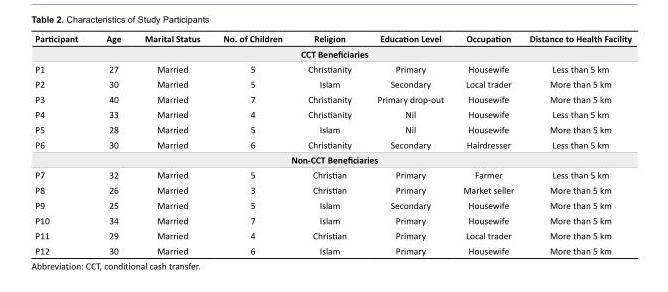table: (34, 34, 631, 255)
table column: (521, 34, 631, 255), (363, 34, 452, 255), (211, 34, 294, 255), (132, 34, 211, 255), (294, 34, 363, 255), (452, 34, 521, 255), (34, 34, 91, 255), (91, 34, 132, 255)
table projected row header: (34, 46, 631, 61), (34, 152, 631, 167)
table row: (34, 91, 631, 107), (34, 182, 631, 198), (34, 46, 631, 61), (34, 61, 631, 76), (34, 76, 631, 91), (34, 107, 631, 122), (34, 122, 631, 137), (34, 137, 631, 152), (34, 152, 631, 167), (34, 167, 631, 182), (34, 198, 631, 213), (34, 213, 631, 228), (34, 228, 631, 243), (34, 34, 631, 46), (34, 243, 631, 255)
